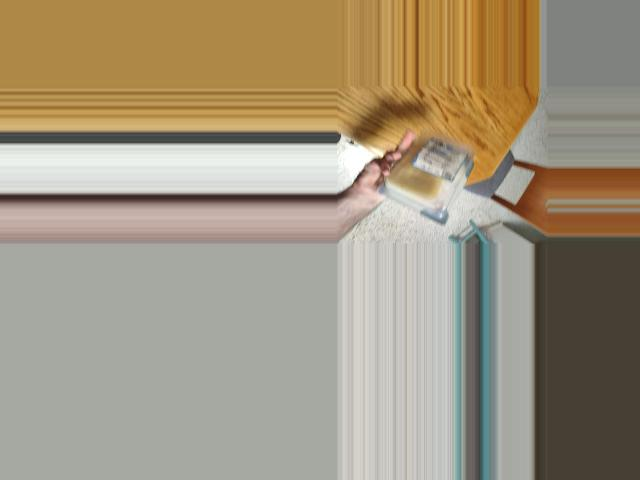cheese: (385, 137, 471, 208)
